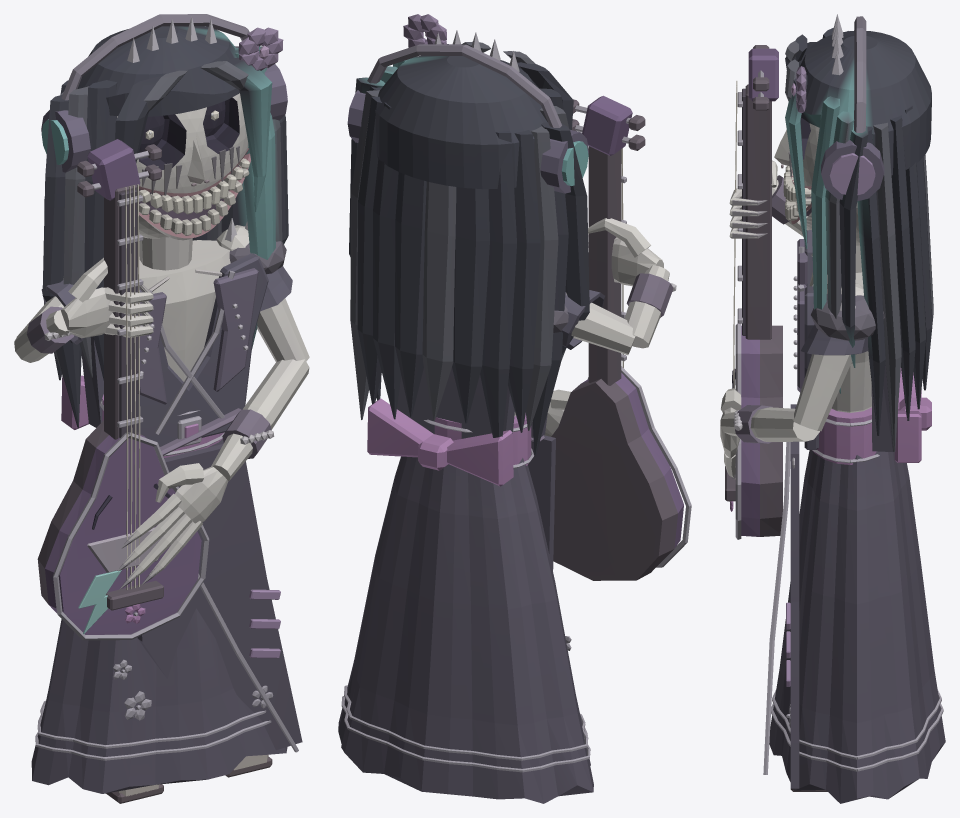
File: MimicPunk.glb
3 views of the same model, side by side, from view 1: azimuth 30°, elevation 25°; view 2: azimuth 150°, elevation 25°; view 3: azimuth 270°, elevation 25° (orthographic). The views are drawn at different scales.
Visible parts, largest first — view 1: Body, Head, ArmL, ArmR, LegR, LegL; view 2: Body, Head, ArmR, ArmL; view 3: Body, Head, ArmL, ArmR.
Part boxes in pixels (left/top/right/bottom): Body: left=31, top=139, right=302, bottom=793; Head: left=41, top=14, right=288, bottom=427; ArmL: left=117, top=218, right=309, bottom=589; ArmR: left=14, top=257, right=153, bottom=362; LegR: left=106, top=784, right=163, bottom=803; LegL: left=225, top=754, right=272, bottom=777; Body: left=338, top=95, right=691, bottom=803; Head: left=347, top=14, right=589, bottom=456; ArmR: left=553, top=218, right=676, bottom=355; ArmL: left=544, top=389, right=570, bottom=436; Body: left=725, top=45, right=945, bottom=803; Head: left=774, top=14, right=933, bottom=451; ArmL: left=720, top=283, right=884, bottom=479; ArmR: left=729, top=160, right=803, bottom=238.
Size of the model in its own units: 3.1 by 7.43 by 2.07.
